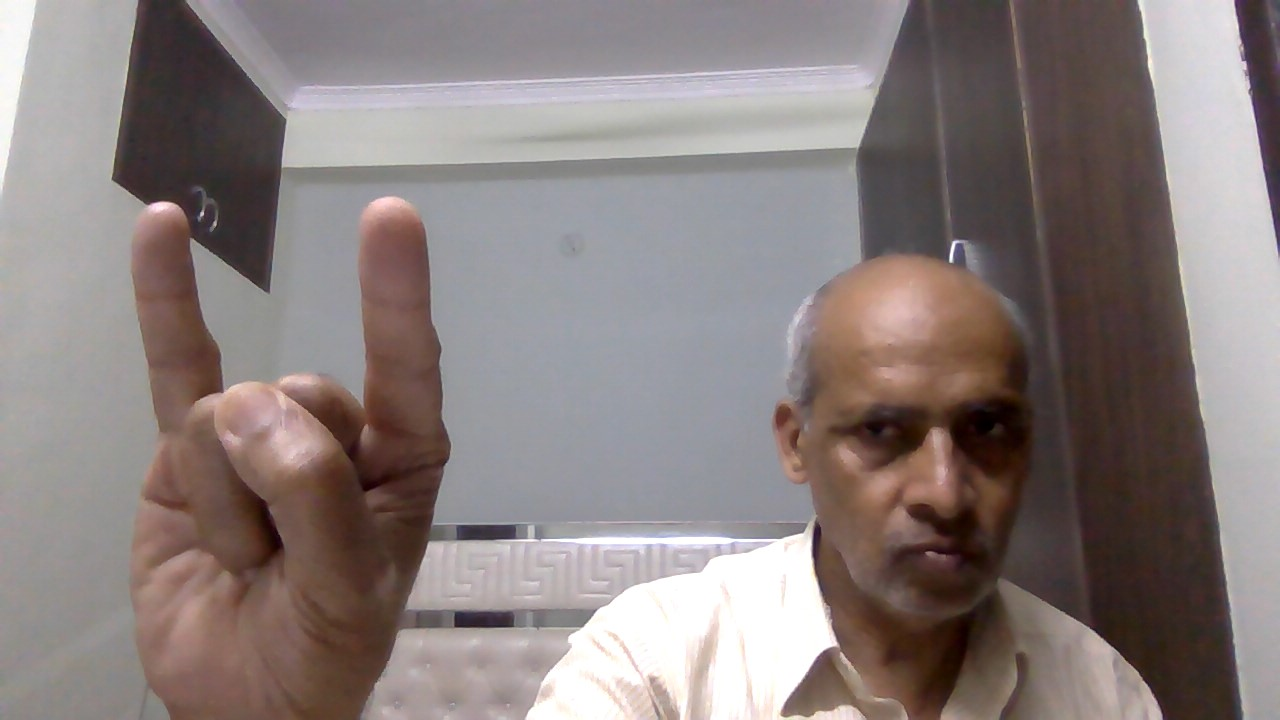Select All: (113, 182, 468, 720)
